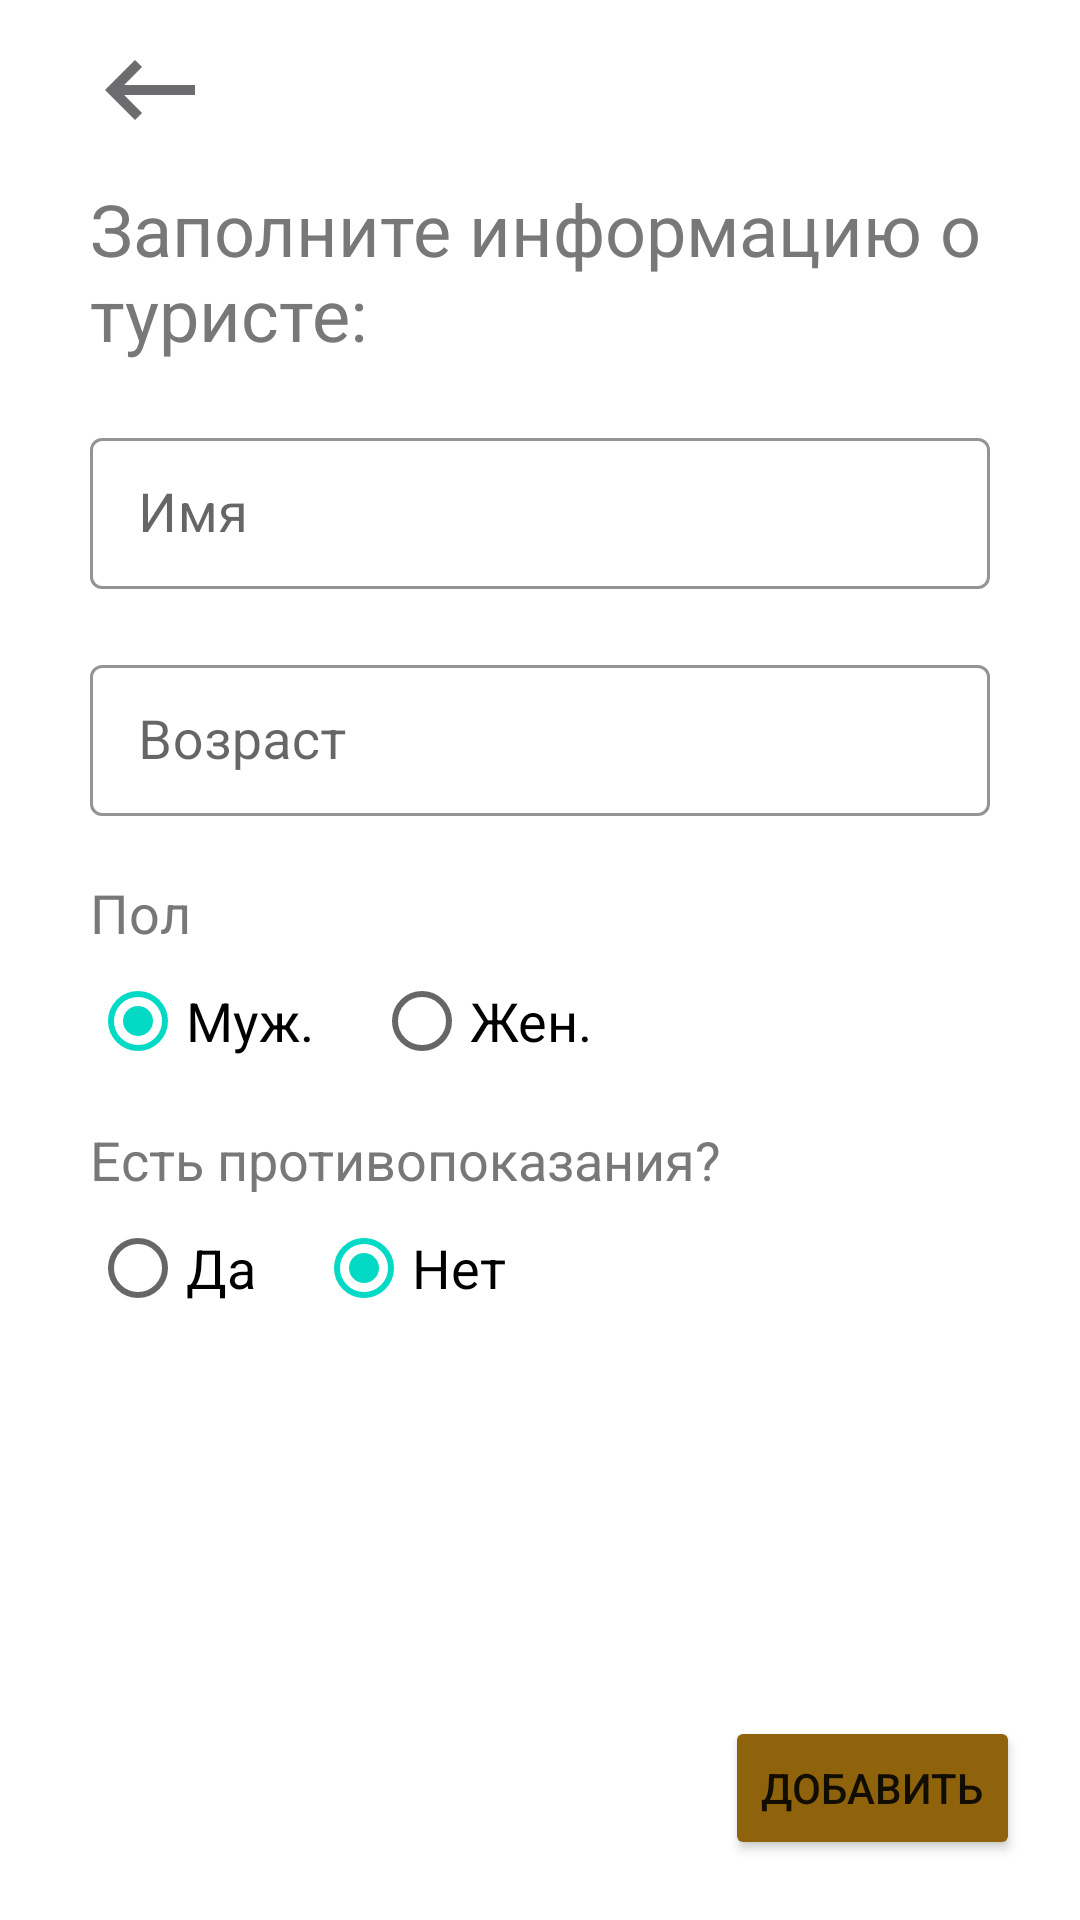

Point at icon controls on the screen. Image size 1080x1920, points as [x,y].
back: [150,90]
